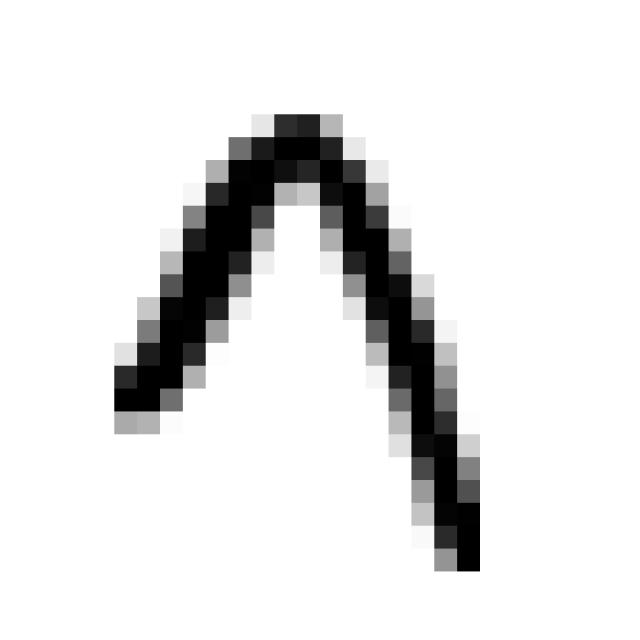8 -eight-: (85, 92, 505, 605)
